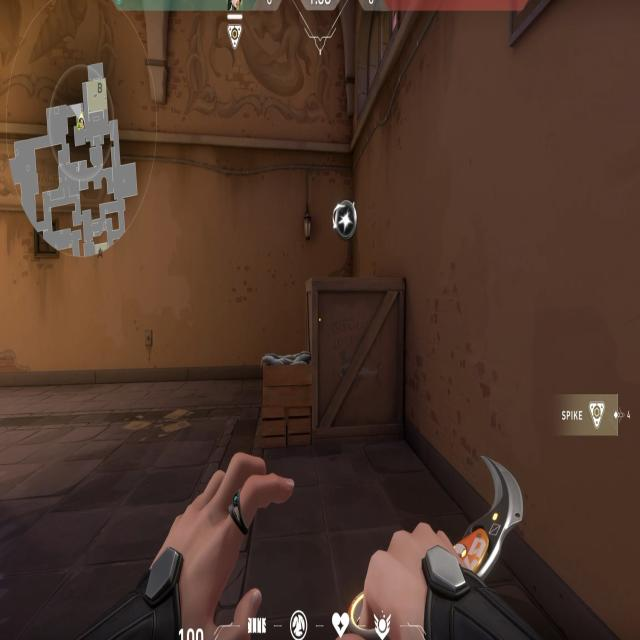B_Main_Wallbang: (250, 175, 410, 466)
